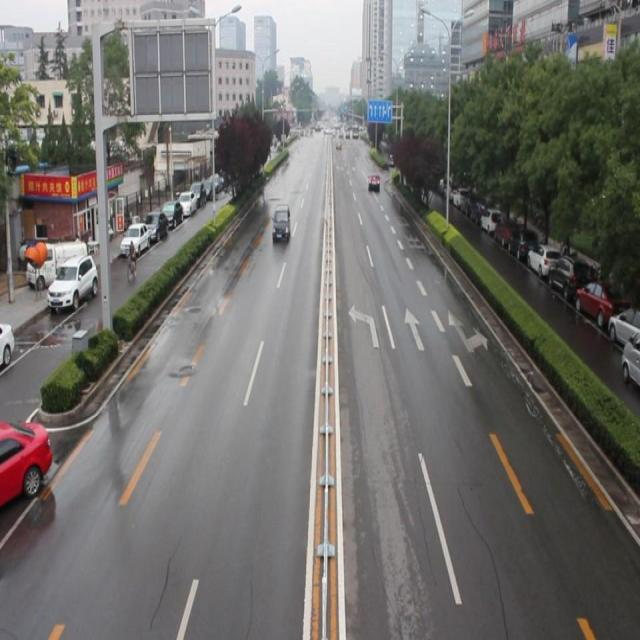car: (1, 417, 53, 500), (366, 172, 379, 191)
truck: (271, 204, 290, 243)
